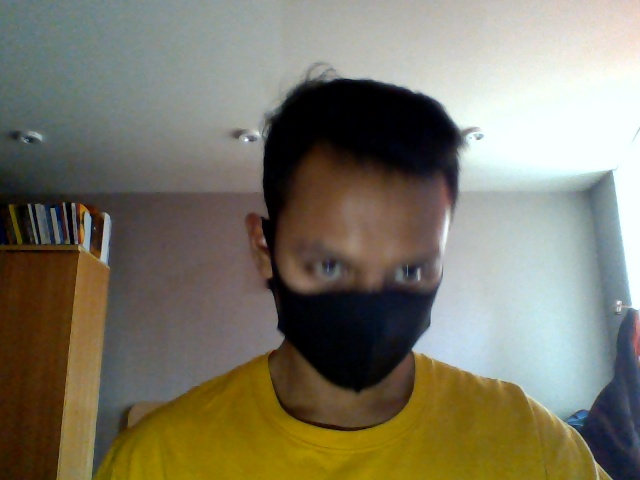mask: (268, 278, 437, 390)
